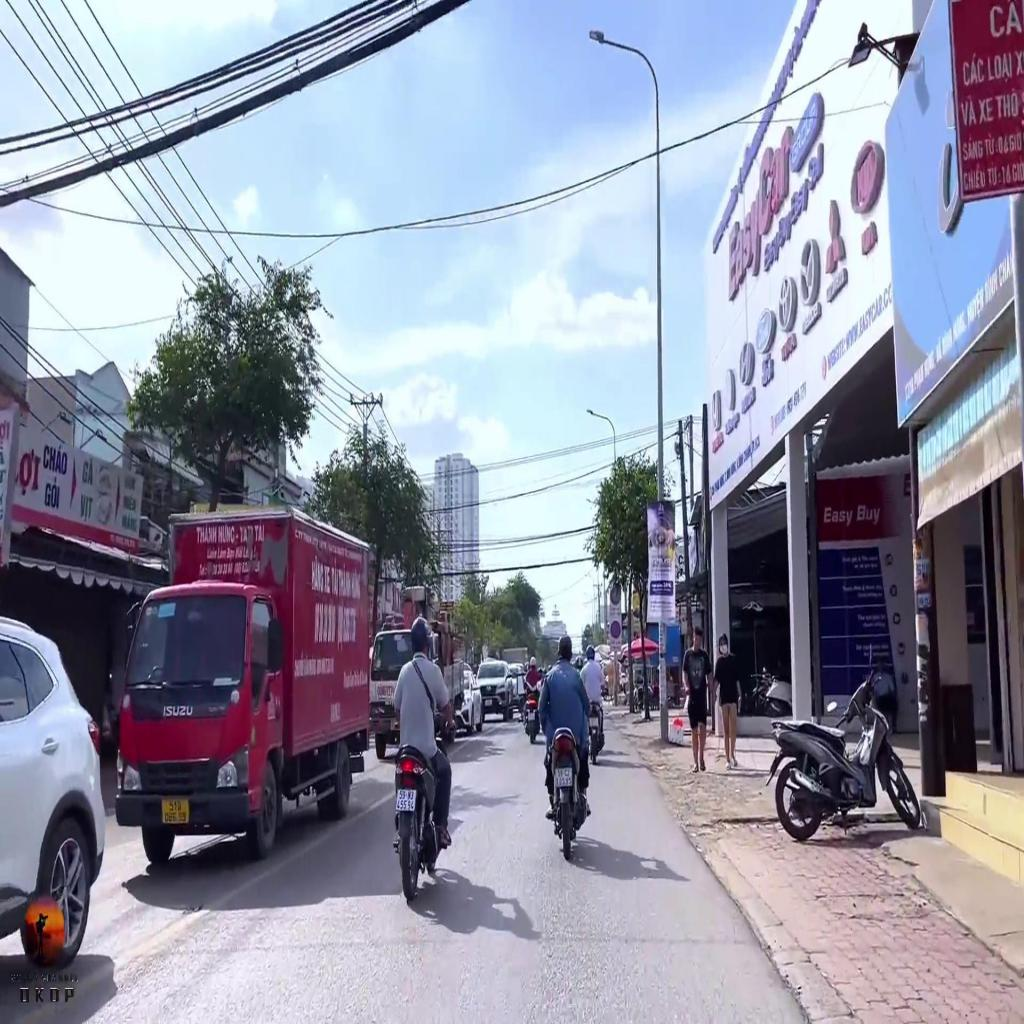cam_do_xe: (611, 620, 620, 638)
cam_dung_xe_va_do_xe: (610, 588, 620, 605)
